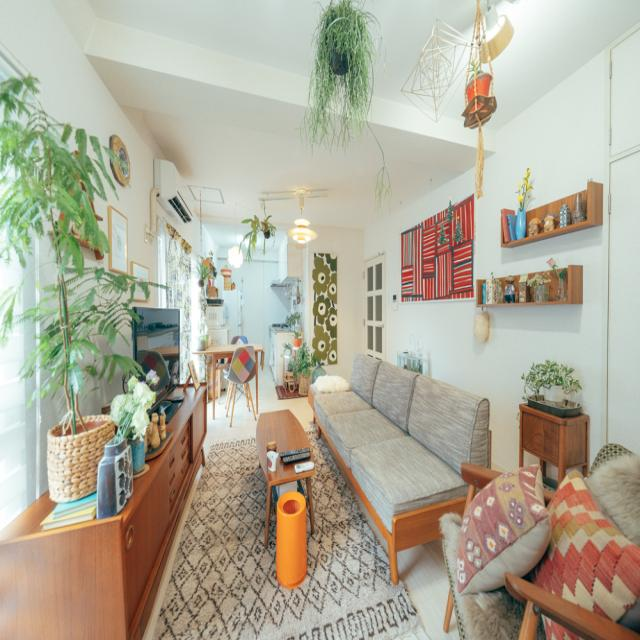modern chair: (225, 344, 258, 425)
modern desk: (251, 407, 316, 544)
modern shelf: (1, 378, 210, 636)
modern sofa: (314, 348, 486, 578)
